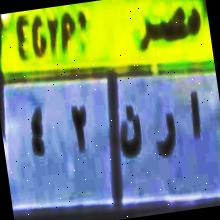2: (63, 97, 97, 158)
4: (21, 108, 54, 170)
alif: (179, 82, 211, 148)
noon: (112, 98, 149, 170)
raa: (150, 105, 182, 163)
